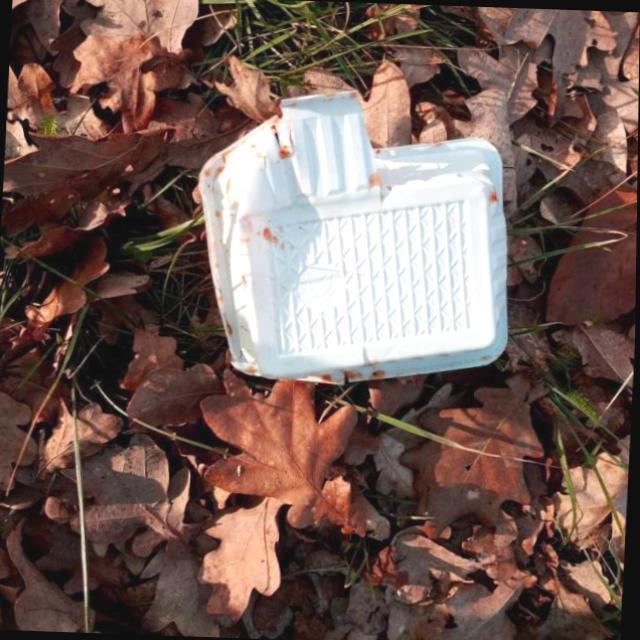Plastic: (185, 81, 522, 392)
